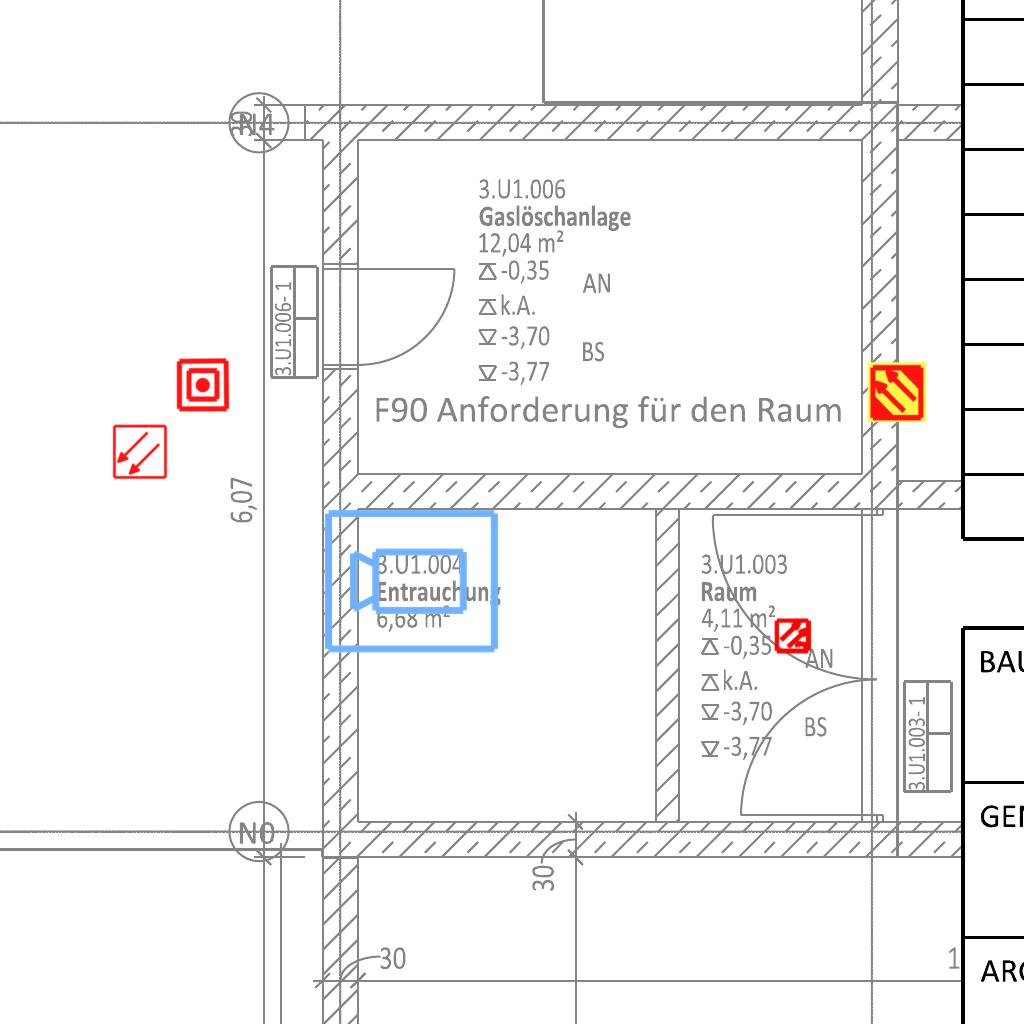ASR_Ansaugrauchmelder: (866, 361, 928, 423)
KFO_Kamera_mit_Festobjektiv: (321, 503, 503, 657)
NAM-Nichtautomatischer_Melder: (175, 357, 231, 413)
OT_Multisensormelder_(Kombination_RMO_WMD): (766, 608, 822, 664)
RMO_Rauchmelder_optischer: (112, 424, 168, 480)
